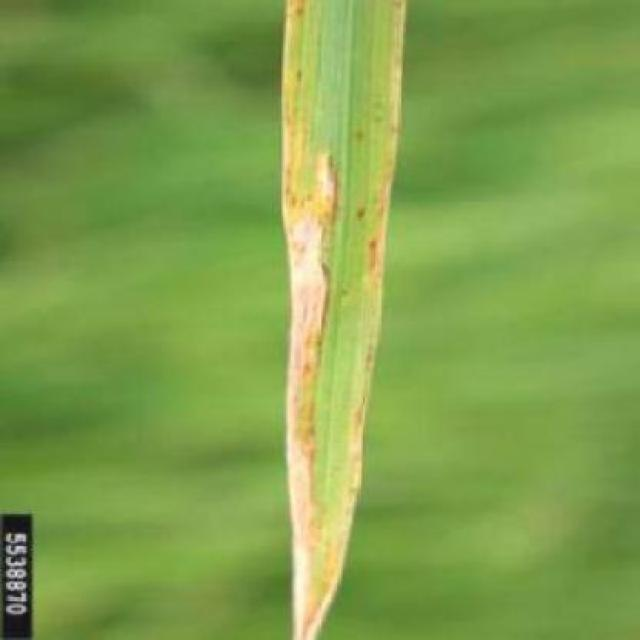Brown_Spot: (266, 0, 404, 638)
